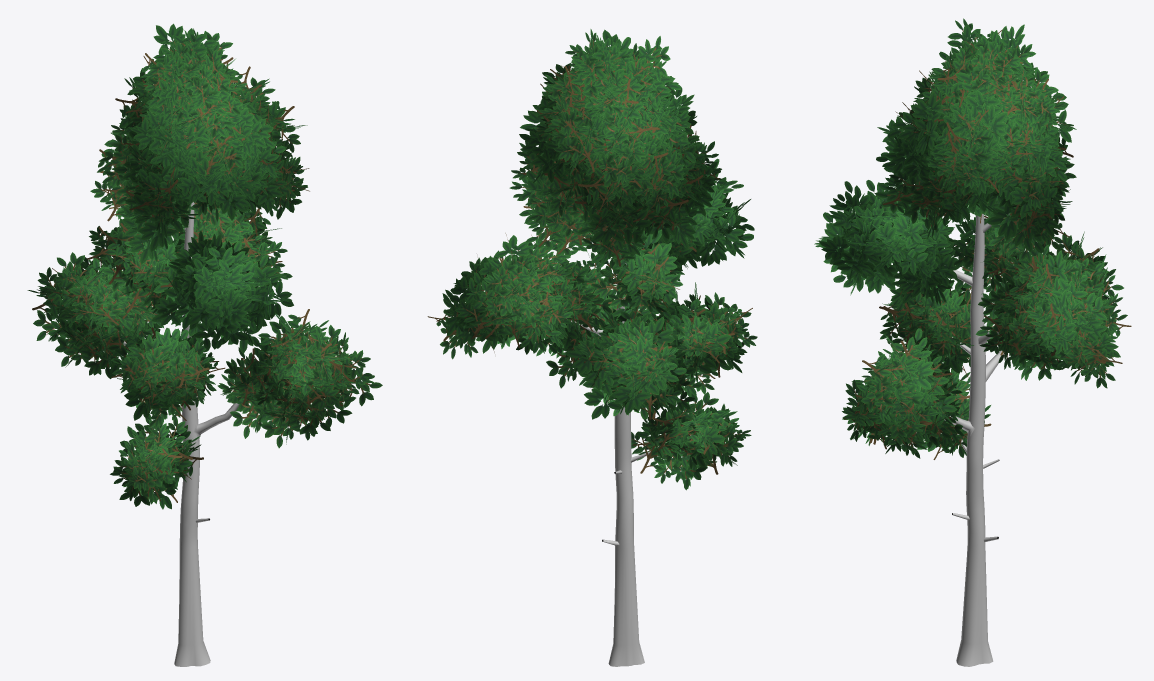
The model's file is Tree_01.fbx.
3 renders of one model, left to right at view 1: azimuth 30°, elevation 25°; view 2: azimuth 150°, elevation 25°; view 3: azimuth 270°, elevation 25°, orthographic.
Visible parts, largest first — view 1: group33_pPlane201, polySurface7; view 2: group33_pPlane201, polySurface7; view 3: group33_pPlane201, polySurface7.
Part boxes in pixels (x1,y1,x2,y2): group33_pPlane201: (27, 23, 382, 509); polySurface7: (120, 202, 239, 666); group33_pPlane201: (427, 29, 757, 490); polySurface7: (566, 263, 650, 666); group33_pPlane201: (814, 18, 1131, 459); polySurface7: (944, 214, 1009, 666).
Size of the model in its own units: 84.3 by 202 by 98.32.
